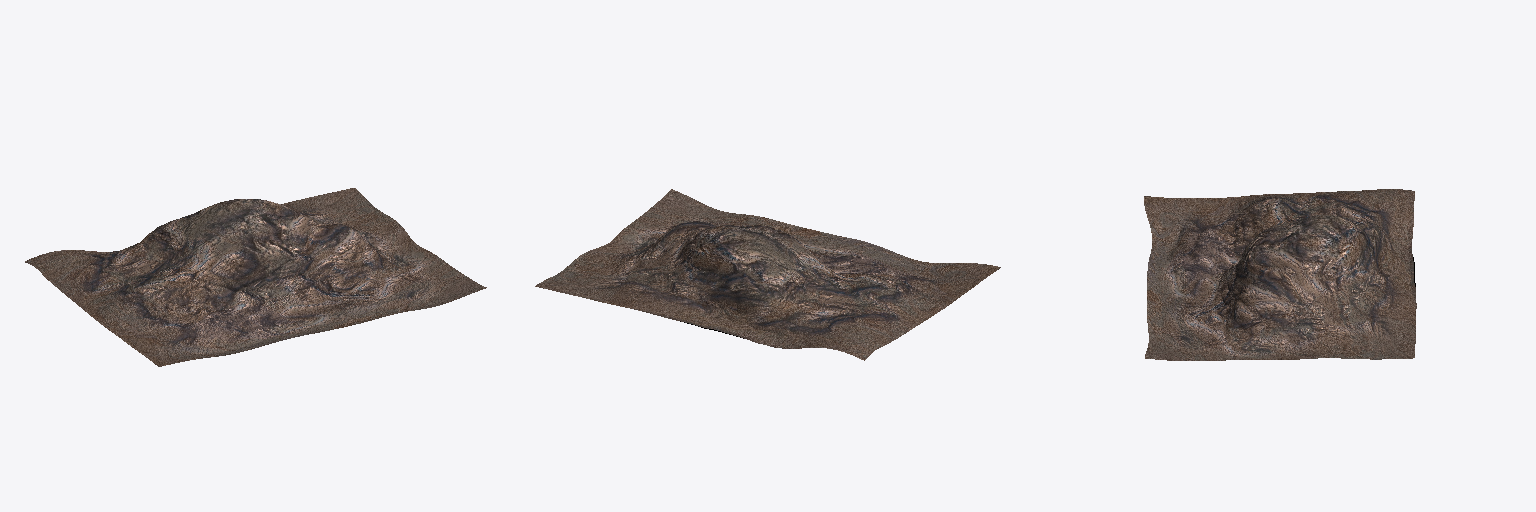
The picture shows the model from 3 angles: view 1: azimuth 30°, elevation 25°; view 2: azimuth 150°, elevation 25°; view 3: azimuth 270°, elevation 25°; orthographic projection.
Parts seen in each view (by area): view 1: Plane.001_Plane.003; view 2: Plane.001_Plane.003; view 3: Plane.001_Plane.003.
Boxes of the visible parts, x1,y1,x2,y2 form: Plane.001_Plane.003: [25, 188, 486, 366]; Plane.001_Plane.003: [535, 189, 1000, 360]; Plane.001_Plane.003: [1144, 189, 1416, 360].
Bounding box in the file's own units: 4.23 × 0.8524 × 3.01.
Materials: 1 (1 with a texture image).